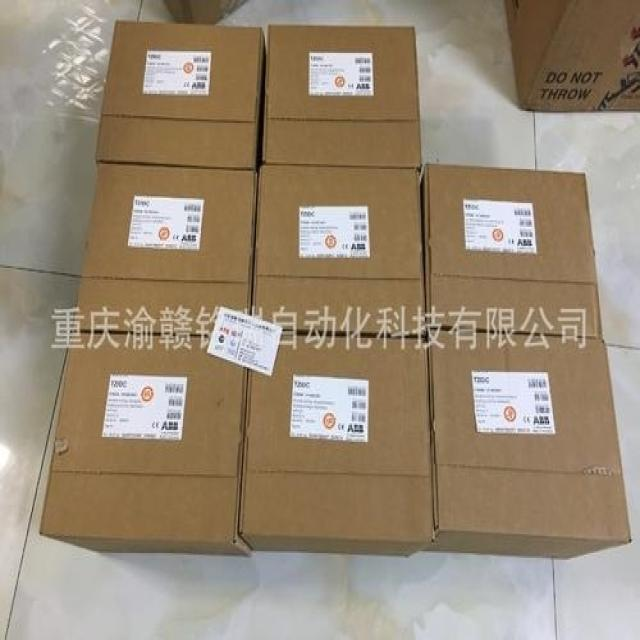box: (422, 331, 633, 561), (40, 331, 252, 557), (238, 335, 437, 560), (420, 166, 605, 340), (73, 165, 257, 335), (249, 167, 426, 338), (95, 20, 266, 171), (262, 24, 422, 169), (504, 1, 638, 110)
